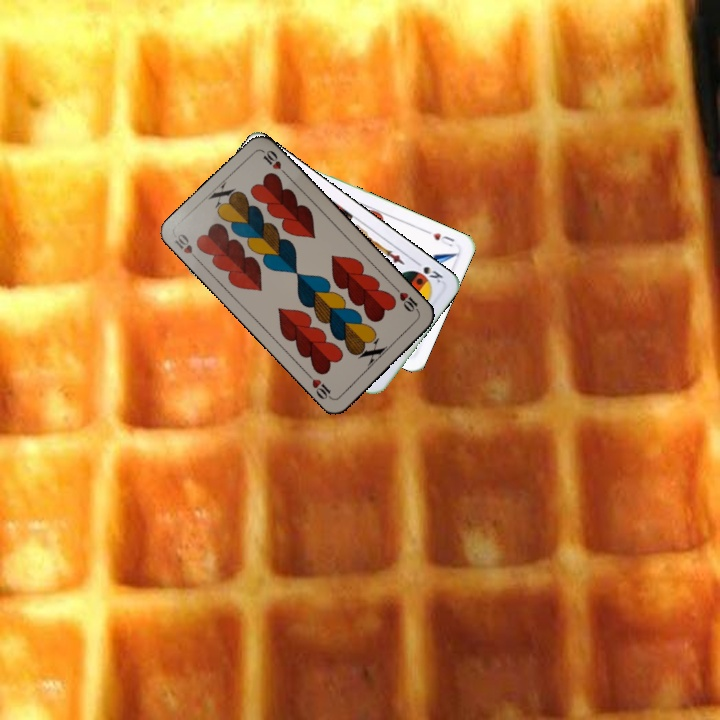H10: (171, 229, 203, 265), (391, 283, 422, 316)
HU: (421, 226, 457, 249)
SK: (410, 256, 446, 286)
